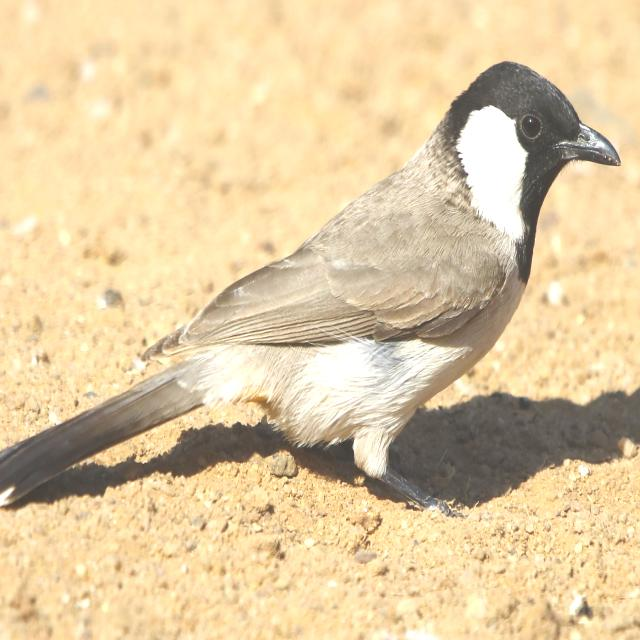bird: (0, 52, 622, 526)
